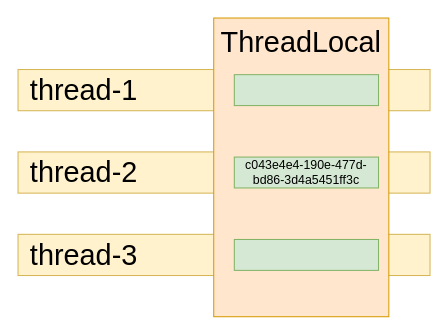
Image size: 448x335. Some labels were removed from this diagram. The box of each missing label's shape, as (x1, y1, x2, y2) in pixels:
0d0c83e0-e8eb-4396-905a-6568bb9b6993: (233, 74, 379, 106)
e4dfda95-c863-4791-b882-15d04374b19f: (233, 238, 379, 270)
